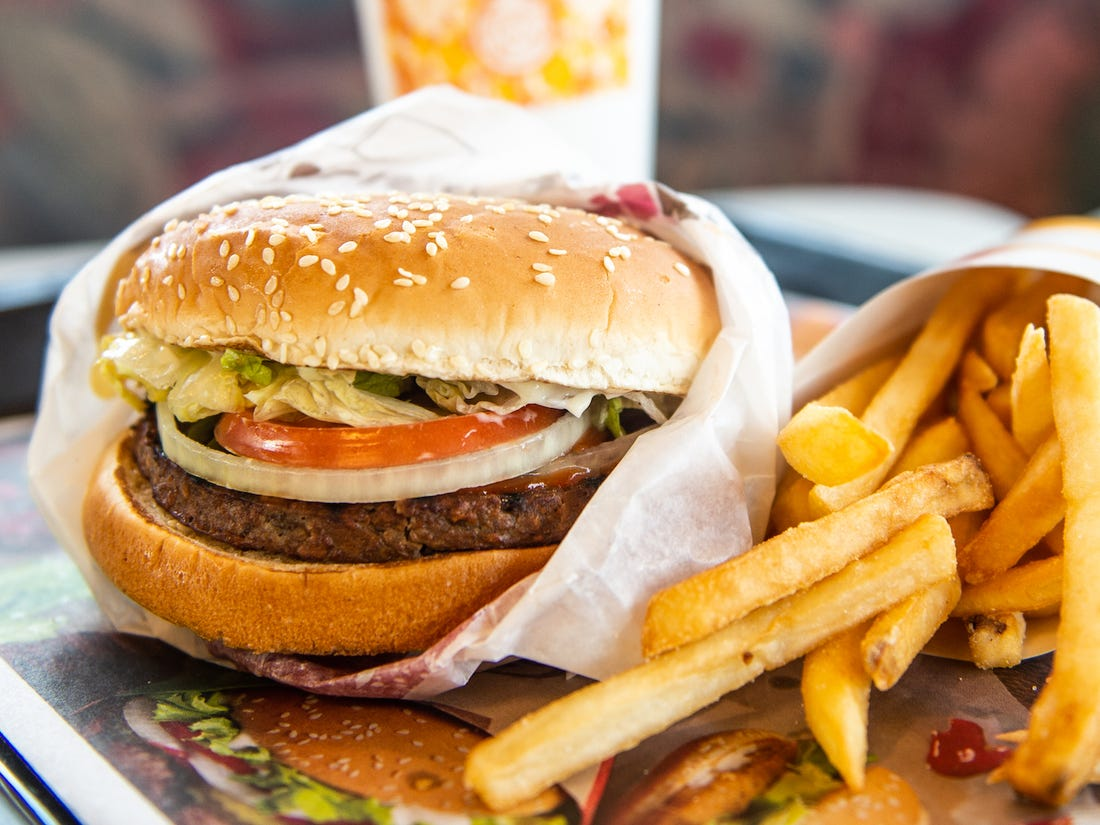hamburger_buns: (67, 194, 680, 691)
